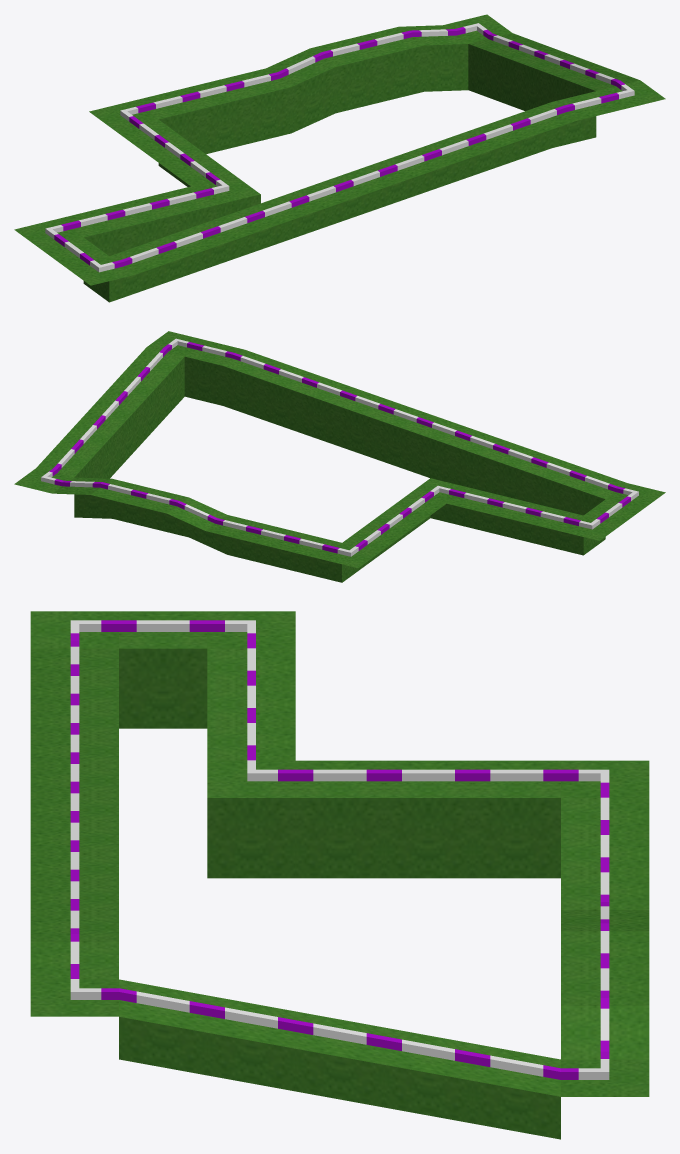
The model's file is circuit_3_G.fbx.
3 renders of one model, top to bottom at view 1: azimuth 30°, elevation 25°; view 2: azimuth 150°, elevation 25°; view 3: azimuth 270°, elevation 25°, orthographic. The views are drawn at different scales.
Parts seen in each view (by area): view 1: pasted__pCube3138; view 2: pasted__pCube3138; view 3: pasted__pCube3138.
Part boxes in pixels (left/top/right/bottom): pasted__pCube3138: left=14, top=14, right=665, bottom=302; pasted__pCube3138: left=14, top=331, right=665, bottom=582; pasted__pCube3138: left=30, top=611, right=649, bottom=1139.
Size of the model in its own units: 650 by 105 by 350.
